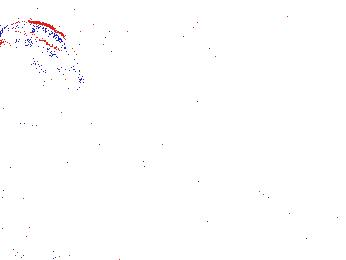moon jellyfish: (67, 29, 133, 141), (1, 20, 81, 96), (128, 9, 219, 61)
